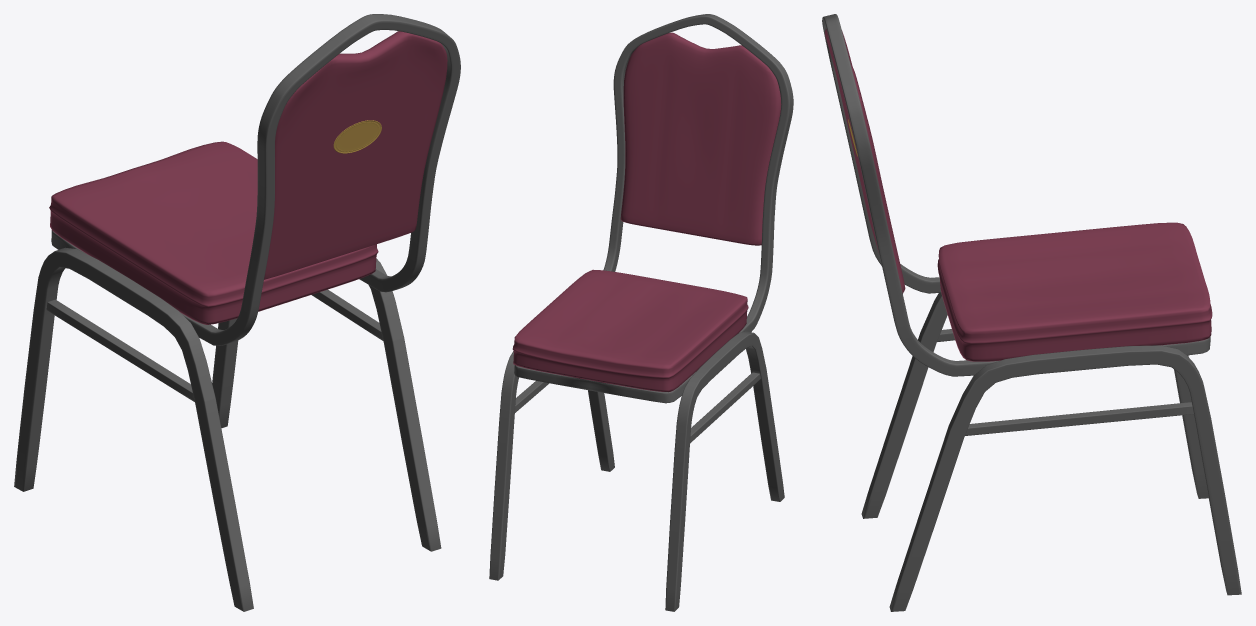
Rendered from Conference Chair.fbx.
3 views of the same model, side by side, from view 1: azimuth 30°, elevation 25°; view 2: azimuth 150°, elevation 25°; view 3: azimuth 270°, elevation 25° (orthographic). The views are drawn at different scales.
Parts seen in each view (by area): view 1: Cube, Cube.002, Cube.001, Circle; view 2: Cube.002, Cube, Cube.001; view 3: Cube.001, Cube, Cube.002.
Boxes of the visible parts, left/top/right/bottom form: Cube: left=14, top=14, right=460, bottom=611; Cube.002: left=264, top=31, right=447, bottom=279; Cube.001: left=49, top=141, right=378, bottom=324; Circle: left=333, top=120, right=381, bottom=153; Cube.002: left=620, top=32, right=781, bottom=245; Cube: left=489, top=14, right=793, bottom=611; Cube.001: left=512, top=269, right=748, bottom=392; Cube.001: left=937, top=222, right=1212, bottom=361; Cube: left=822, top=14, right=1241, bottom=611; Cube.002: left=825, top=29, right=905, bottom=293.
Bounding box in the file's own units: 341 × 726 × 506.
